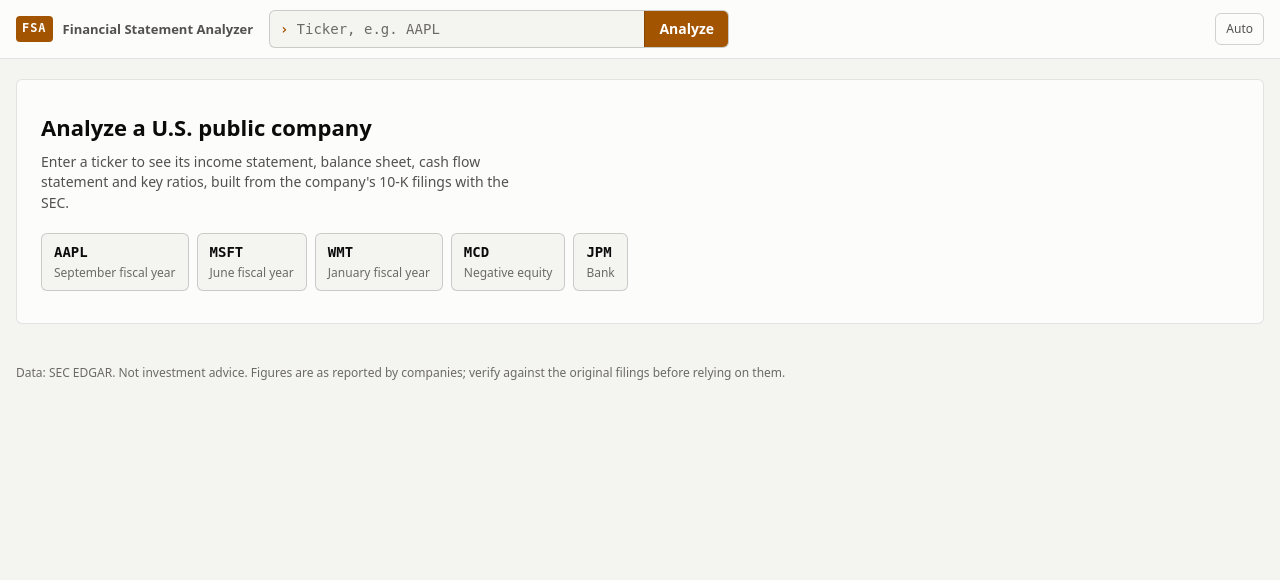
AI analysis › does nothing until asked, then shows verified claims with their figures
This screenshot has width=1280, height=580.
Type "EXMP" into the field named "Company ticker" at (466, 29), box [288, 13, 644, 45]
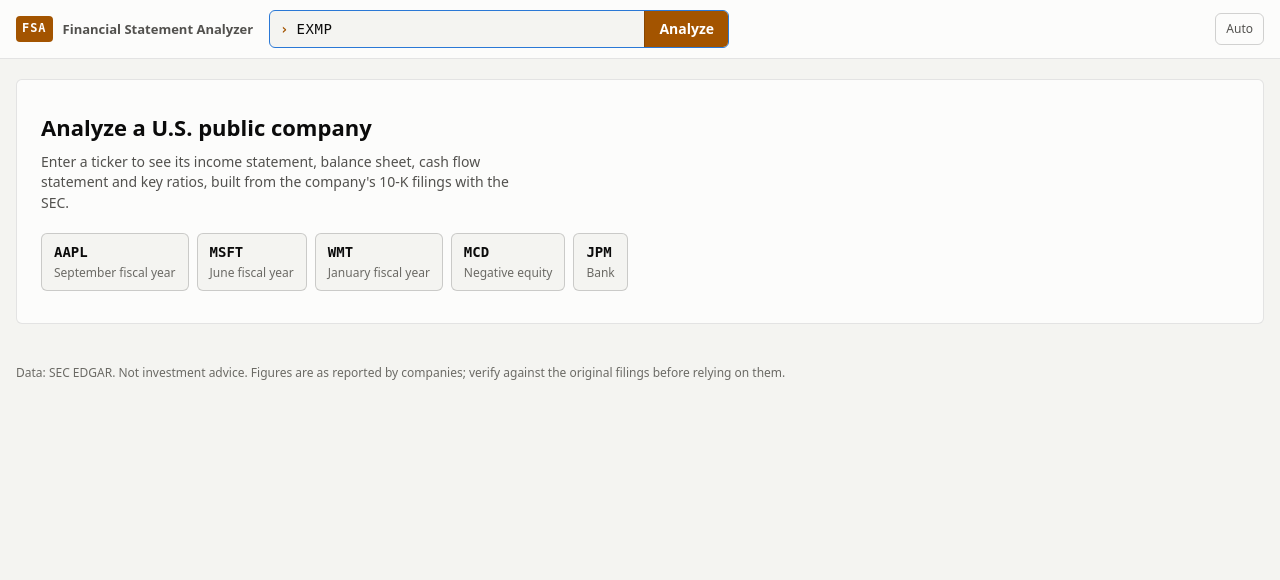
Click the button "Analyze" at (686, 29), box [644, 11, 728, 47]
(page scrolled)
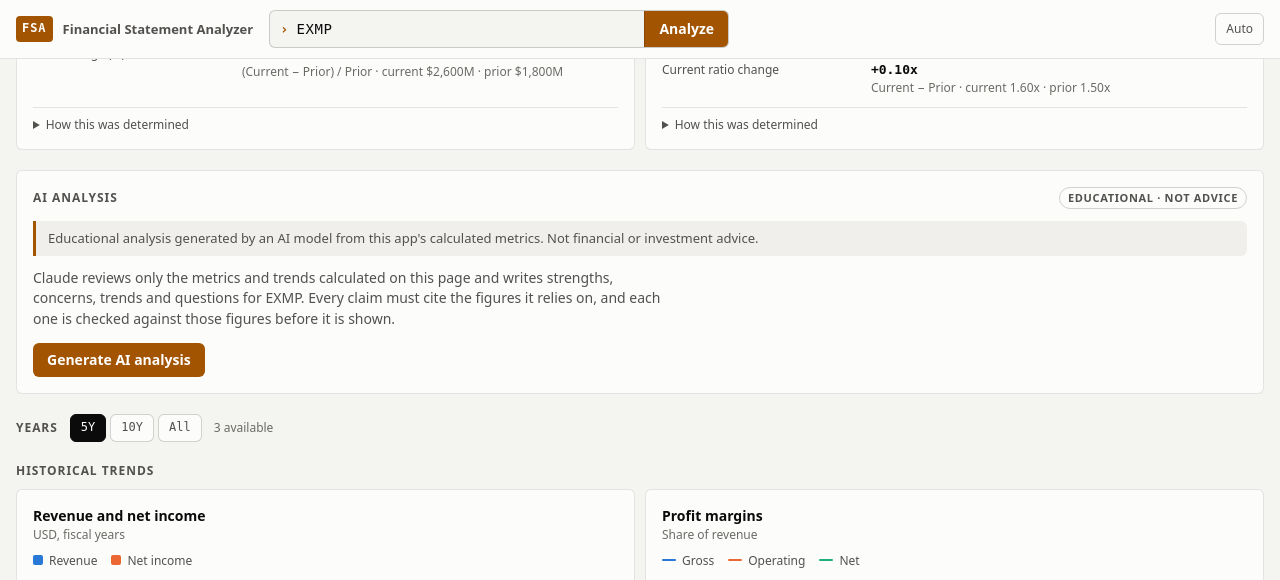
Expected: the text "not financial or investment advice" is shown, [48, 229, 758, 247]
Click the button "Generate AI analysis" at (119, 360), box [33, 343, 205, 377]
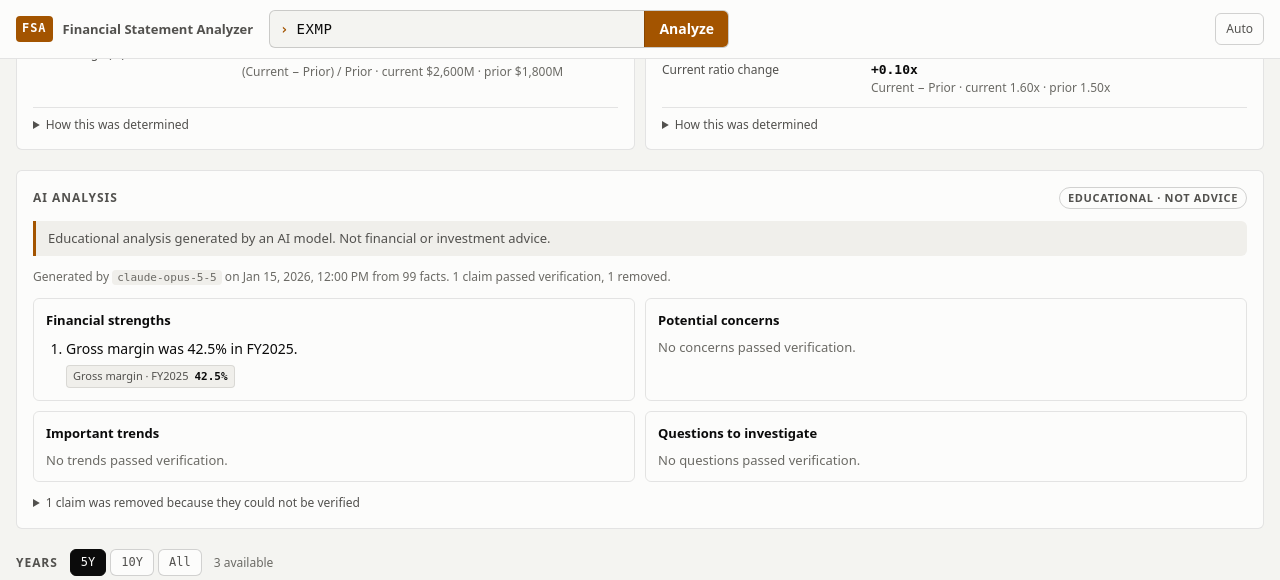
Expected: the text "Gross margin was 42.5% in FY2025." is shown, [66, 339, 298, 358]
Expected: the list named "Supporting figures" shows "Gross margin · FY2025", [66, 365, 235, 388]
Expected: the list named "Supporting figures" shows "42.5%", [194, 370, 228, 383]
